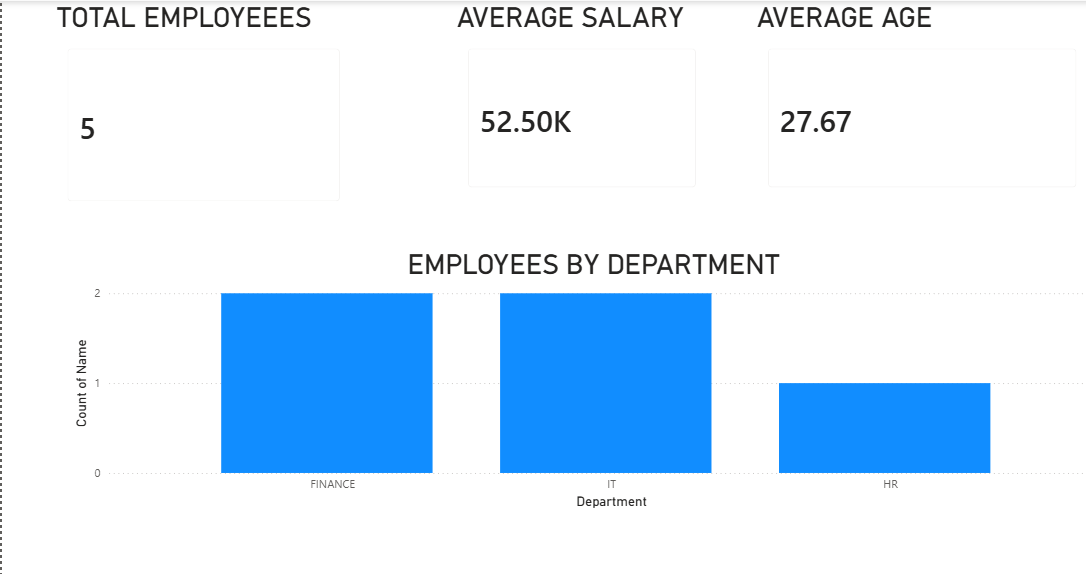

The dashboard page shown, as its layout file describes it:
{"tool":"powerbi","page":{"name":"Page 1","canvas":[1280,720],"ordinal":0},"visuals":[{"type":"cardVisual","title":"TOTAL EMPLOYEEES","fields":{"Data":["CountNonNull(cleaned_data.Name)"]},"box":[53.4,0,328.7,233.2],"z":0},{"type":"cardVisual","title":"AVERAGE SALARY","fields":{"Data":["Avg(cleaned_data.Salary)"]},"box":[485.8,0,280.1,218.6],"z":1},{"type":"cardVisual","title":"AVERAGE AGE","fields":{"Data":["Avg(cleaned_data.Age)"]},"box":[809.6,0,367.6,218.6],"z":2},{"type":"clusteredColumnChart","title":"EMPLOYEES BY DEPARTMENT ","fields":{"Category":["cleaned_data.Department"],"Y":["CountNonNull(cleaned_data.Name)"]},"box":[72.9,267.2,1131.8,285],"z":3}]}

Visuals, with their boxes on the page's 1280x720 design canvas (x1, y1, x2, y2). These are canvas units, not pixel positions in the 1086x574 screenshot, which may show the page scaled, cropped or inside an application window:
"TOTAL EMPLOYEEES" cardVisual: 53,0,382,233
"AVERAGE SALARY" cardVisual: 486,0,766,219
"AVERAGE AGE" cardVisual: 810,0,1177,219
"EMPLOYEES BY DEPARTMENT " clusteredColumnChart: 73,267,1205,552
